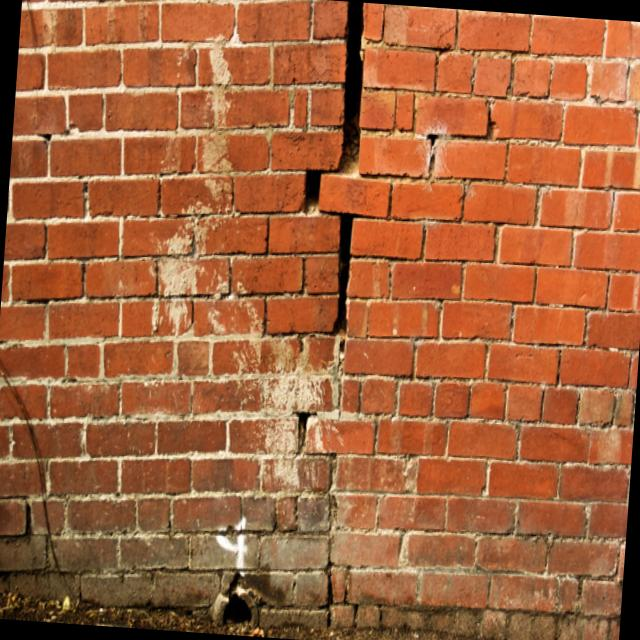crack: (275, 0, 374, 603)
